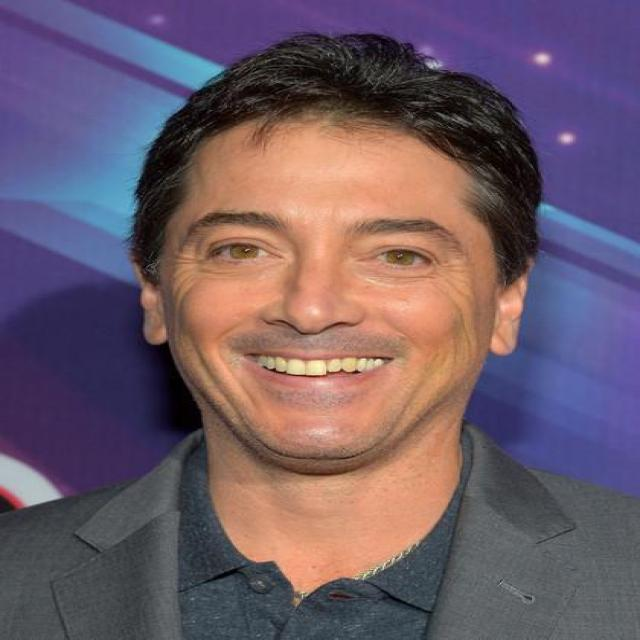0_rostro_limpio: (131, 80, 529, 469)
